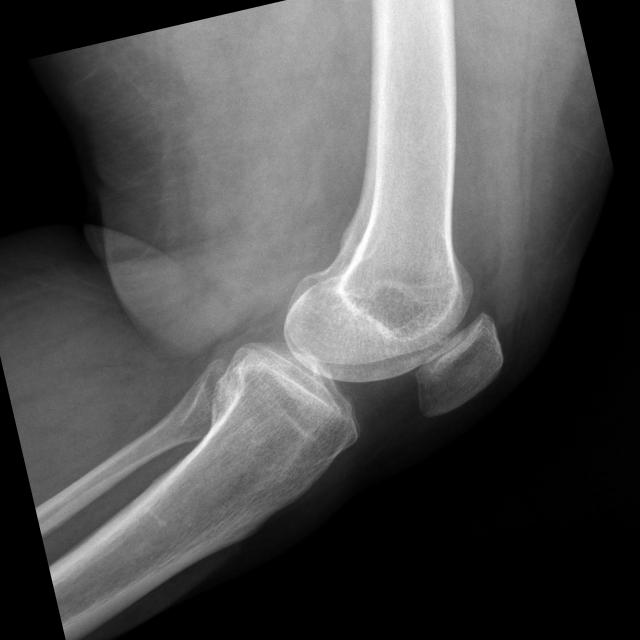Knee: (181, 244, 522, 498)
